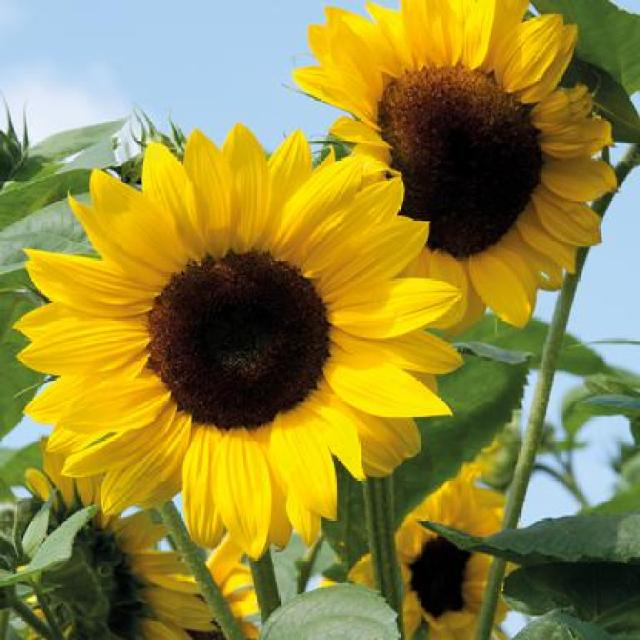sunflower: (0, 94, 455, 551), (352, 0, 605, 326)
